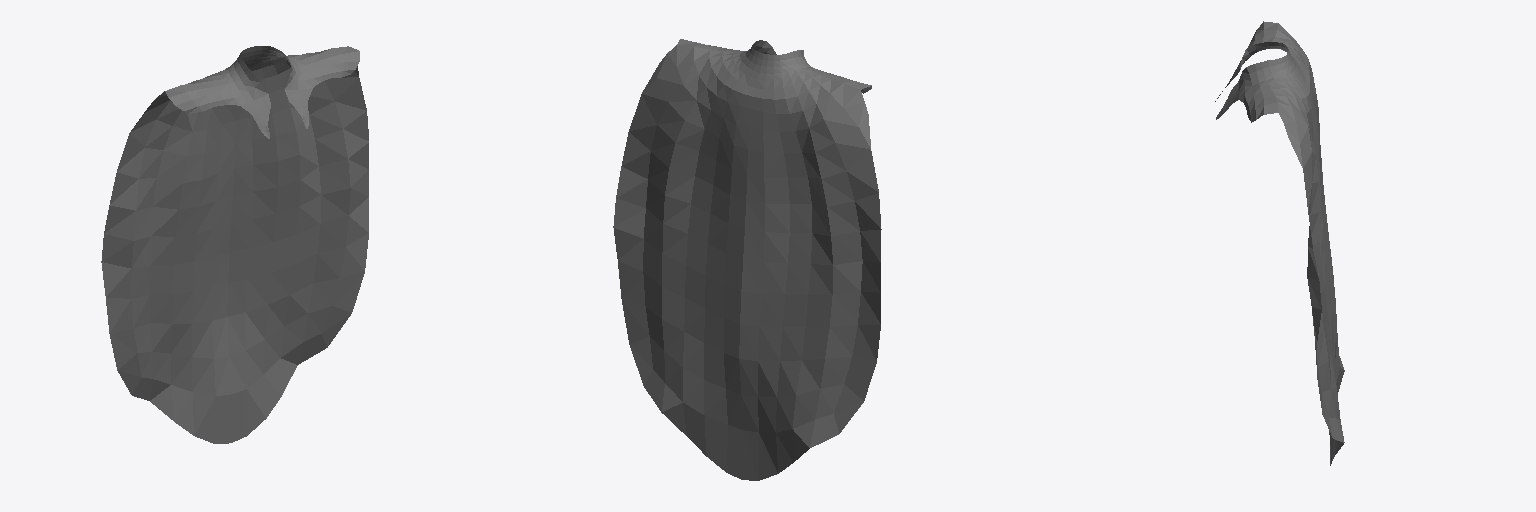
Rendered from LargeCape.obj.
3 renders of one model, left to right at view 1: azimuth 30°, elevation 25°; view 2: azimuth 150°, elevation 25°; view 3: azimuth 270°, elevation 25°, orthographic.
Visible parts, largest first — view 1: polySurface2 large_cape CapeClothSoft, CapeBaseSoft polySurface2 large_cape; view 2: polySurface2 large_cape CapeClothSoft, CapeBaseSoft polySurface2 large_cape; view 3: polySurface2 large_cape CapeClothSoft, CapeBaseSoft polySurface2 large_cape.
Part boxes in pixels (x1,y1,x2,y2): polySurface2 large_cape CapeClothSoft: (101, 49, 368, 443); CapeBaseSoft polySurface2 large_cape: (165, 46, 359, 138); polySurface2 large_cape CapeClothSoft: (613, 45, 881, 480); CapeBaseSoft polySurface2 large_cape: (677, 39, 871, 93); polySurface2 large_cape CapeClothSoft: (1272, 23, 1344, 465); CapeBaseSoft polySurface2 large_cape: (1215, 21, 1304, 122).
Bounding box in the file's own units: 195 × 287 × 81.64.